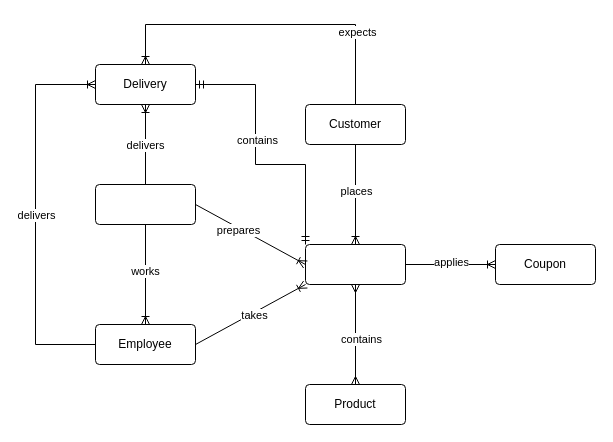
Image size: 613x442. Some labels were removed from this diagram. Here are the shapes that lost their labels. From the top down, the centre of each, then its label:
At (145,204): "Store".
At (355,264): "Order".
